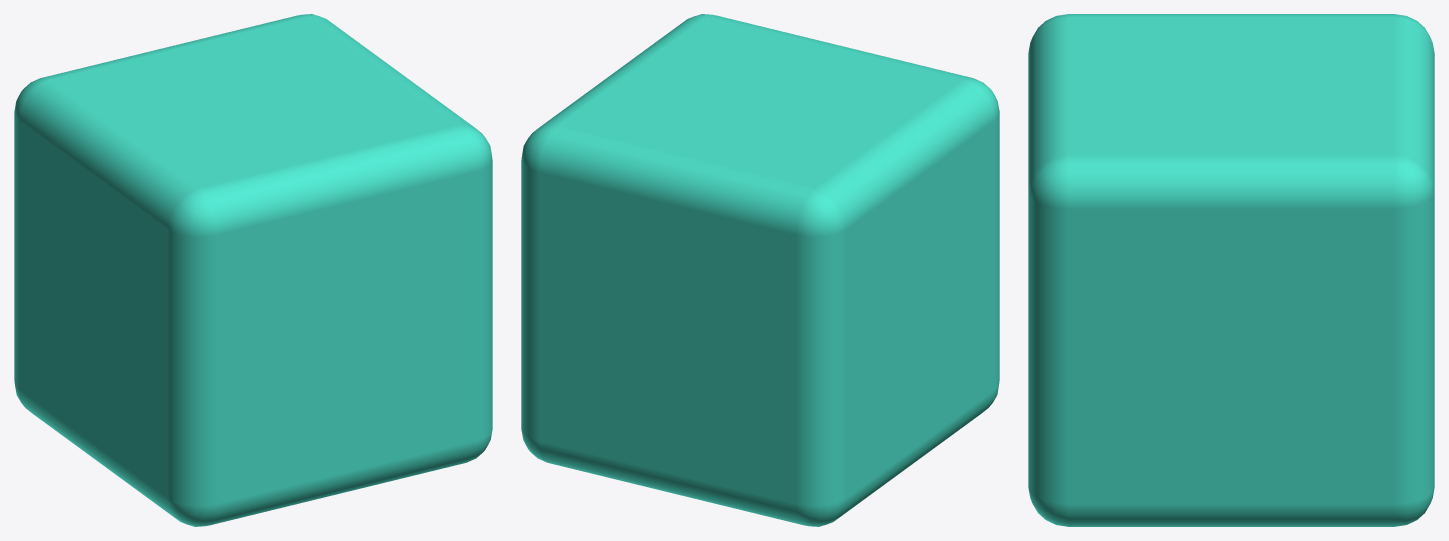
The model's file is SmoothCube.fbx.
3 views of the same model, side by side, from view 1: azimuth 30°, elevation 25°; view 2: azimuth 150°, elevation 25°; view 3: azimuth 270°, elevation 25° (orthographic). The views are drawn at different scales.
Parts seen in each view (by area): view 1: Cube; view 2: Cube; view 3: Cube.
Part boxes in pixels (x1,y1,x2,y2): Cube: [14, 14, 492, 526]; Cube: [521, 14, 999, 526]; Cube: [1028, 14, 1434, 526].
Size of the model in its own units: 100 by 100 by 100.
